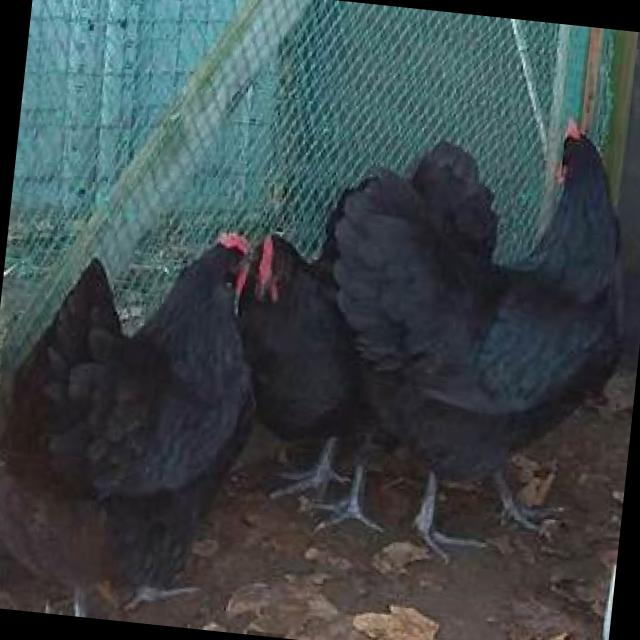animal: (290, 94, 640, 580), (0, 206, 277, 631)
